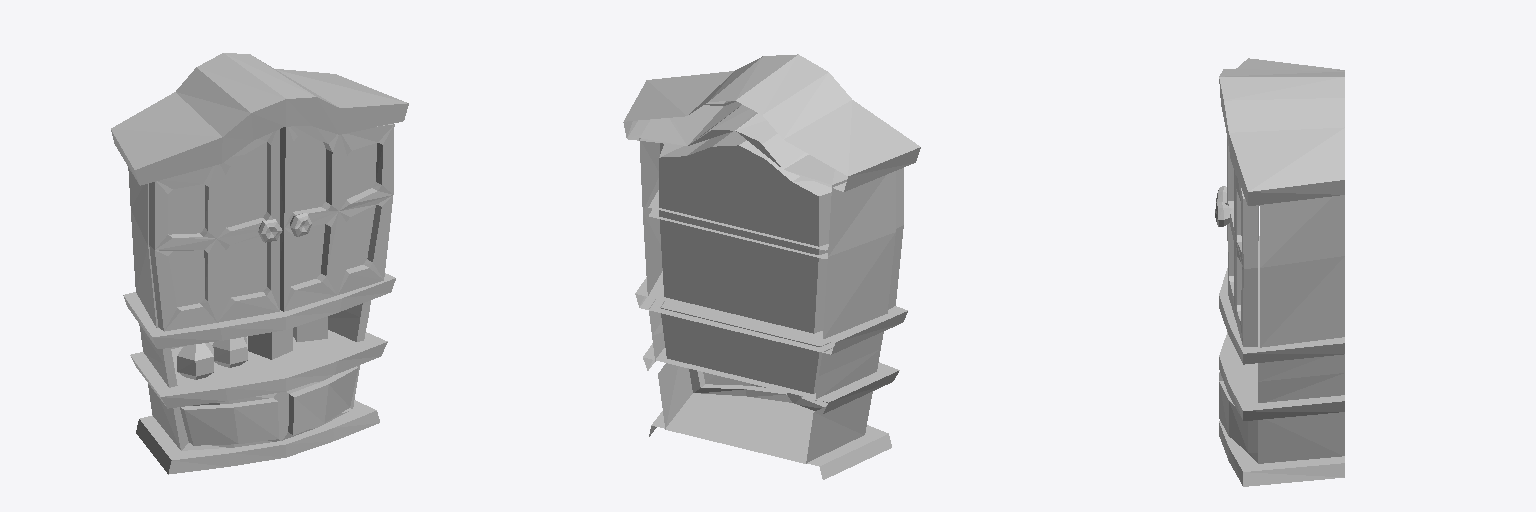
Rendered from kitchen_pantry.obj.
3 renders of one model, left to right at view 1: azimuth 30°, elevation 25°; view 2: azimuth 150°, elevation 25°; view 3: azimuth 270°, elevation 25°, orthographic.
Parts seen in each view (by area): view 1: part8_texture7, part9_texture3, part0_texture0.010, part0_texture0.009, part1_texture1.008, part2_texture0, part1_texture1.007, part7_texture6, part6_texture5; view 2: part8_texture7, part5_texture4.001, part9_texture3, part3_texture3.003, part4_texture4.002, part0_texture0.010; view 3: part8_texture7, part9_texture3, part0_texture0.009.
Boxes of the visible parts, box(x1,y1,x2,y2) form: part8_texture7: box(111, 53, 406, 459); part9_texture3: box(111, 130, 395, 474); part0_texture0.010: box(149, 129, 279, 331); part0_texture0.009: box(280, 124, 394, 311); part1_texture1.008: box(168, 142, 266, 306); part2_texture0: box(135, 97, 408, 185); part1_texture1.007: box(291, 136, 376, 285); part7_texture6: box(177, 337, 247, 379); part6_texture5: box(248, 316, 327, 359); part8_texture7: box(624, 54, 919, 466); part5_texture4.001: box(659, 145, 818, 333); part9_texture3: box(623, 121, 920, 479); part3_texture3.003: box(659, 131, 831, 195); part4_texture4.002: box(814, 192, 831, 333); part0_texture0.010: box(888, 168, 903, 309); part8_texture7: box(1219, 58, 1344, 471); part9_texture3: box(1219, 180, 1344, 486); part0_texture0.009: box(1227, 139, 1257, 346).
Size of the model in its own units: 1.27 by 1.59 by 0.5255.